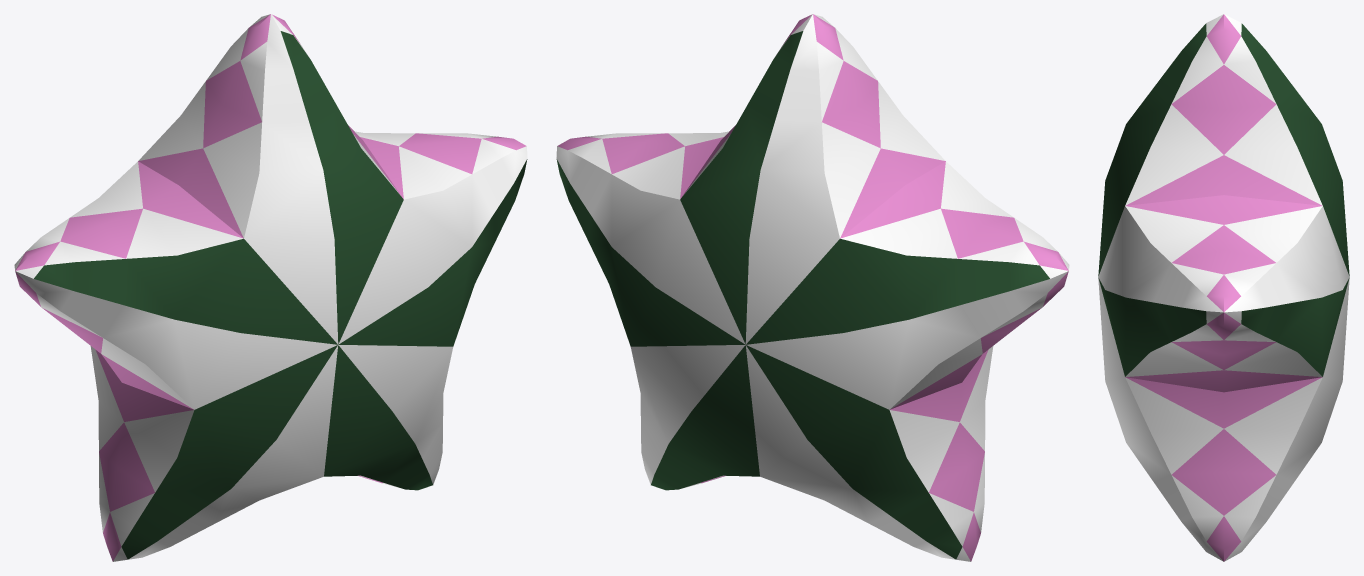
Rendered from Star-old.glb.
3 renders of one model, left to right at view 1: azimuth 30°, elevation 25°; view 2: azimuth 150°, elevation 25°; view 3: azimuth 270°, elevation 25°, orthographic. The views are drawn at different scales.
Visible parts, largest first — view 1: Star; view 2: Star; view 3: Star.
Boxes of the visible parts, bbox=[...] form: Star: bbox=[14, 14, 527, 561]; Star: bbox=[556, 14, 1069, 561]; Star: bbox=[1098, 14, 1349, 561].
Size of the model in its own units: 1.51 by 1.44 by 0.6879.
